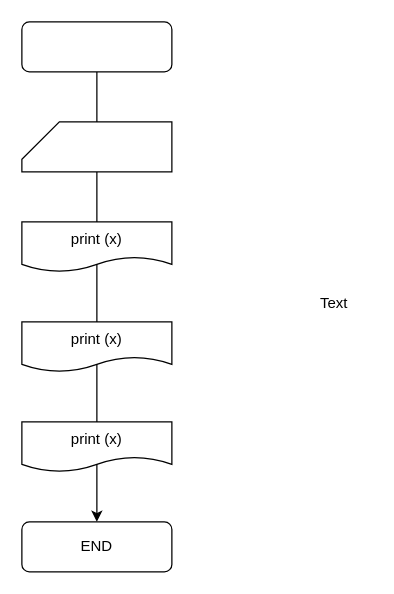
This 394x594 diagram has some shape labels left out. The centre of each missing label's shape, as x and y in pixels:
START: [96,46]
x(int) 'enter a number: ": [96,146]
